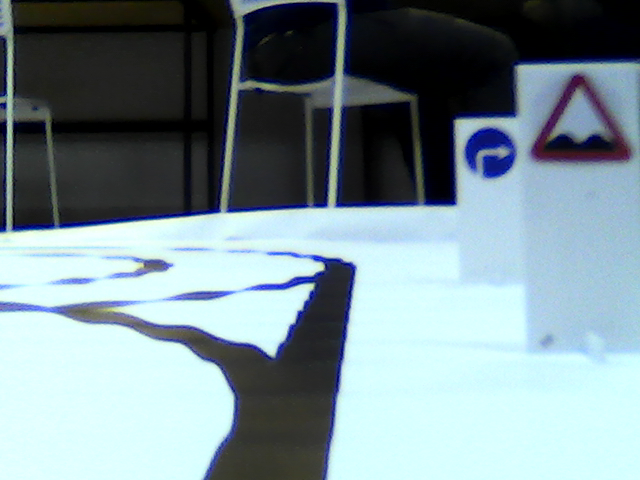Nerov: (537, 74, 630, 170)
Right: (463, 126, 515, 178)
